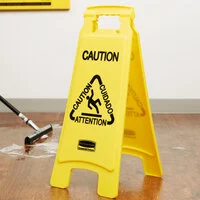wet caution sign: (57, 6, 160, 200)
